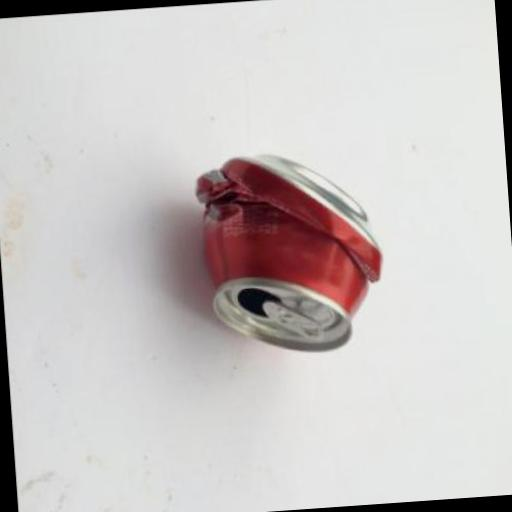metal: (192, 142, 390, 361)
